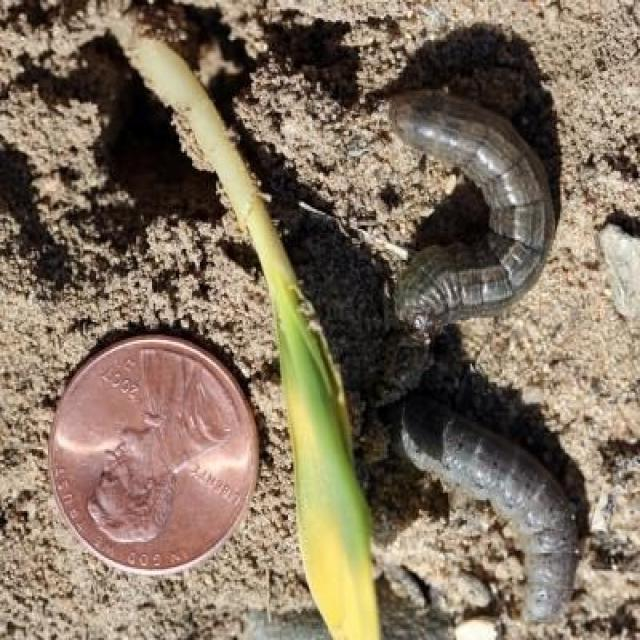black cutworm: (341, 96, 568, 353), (380, 383, 580, 630)
